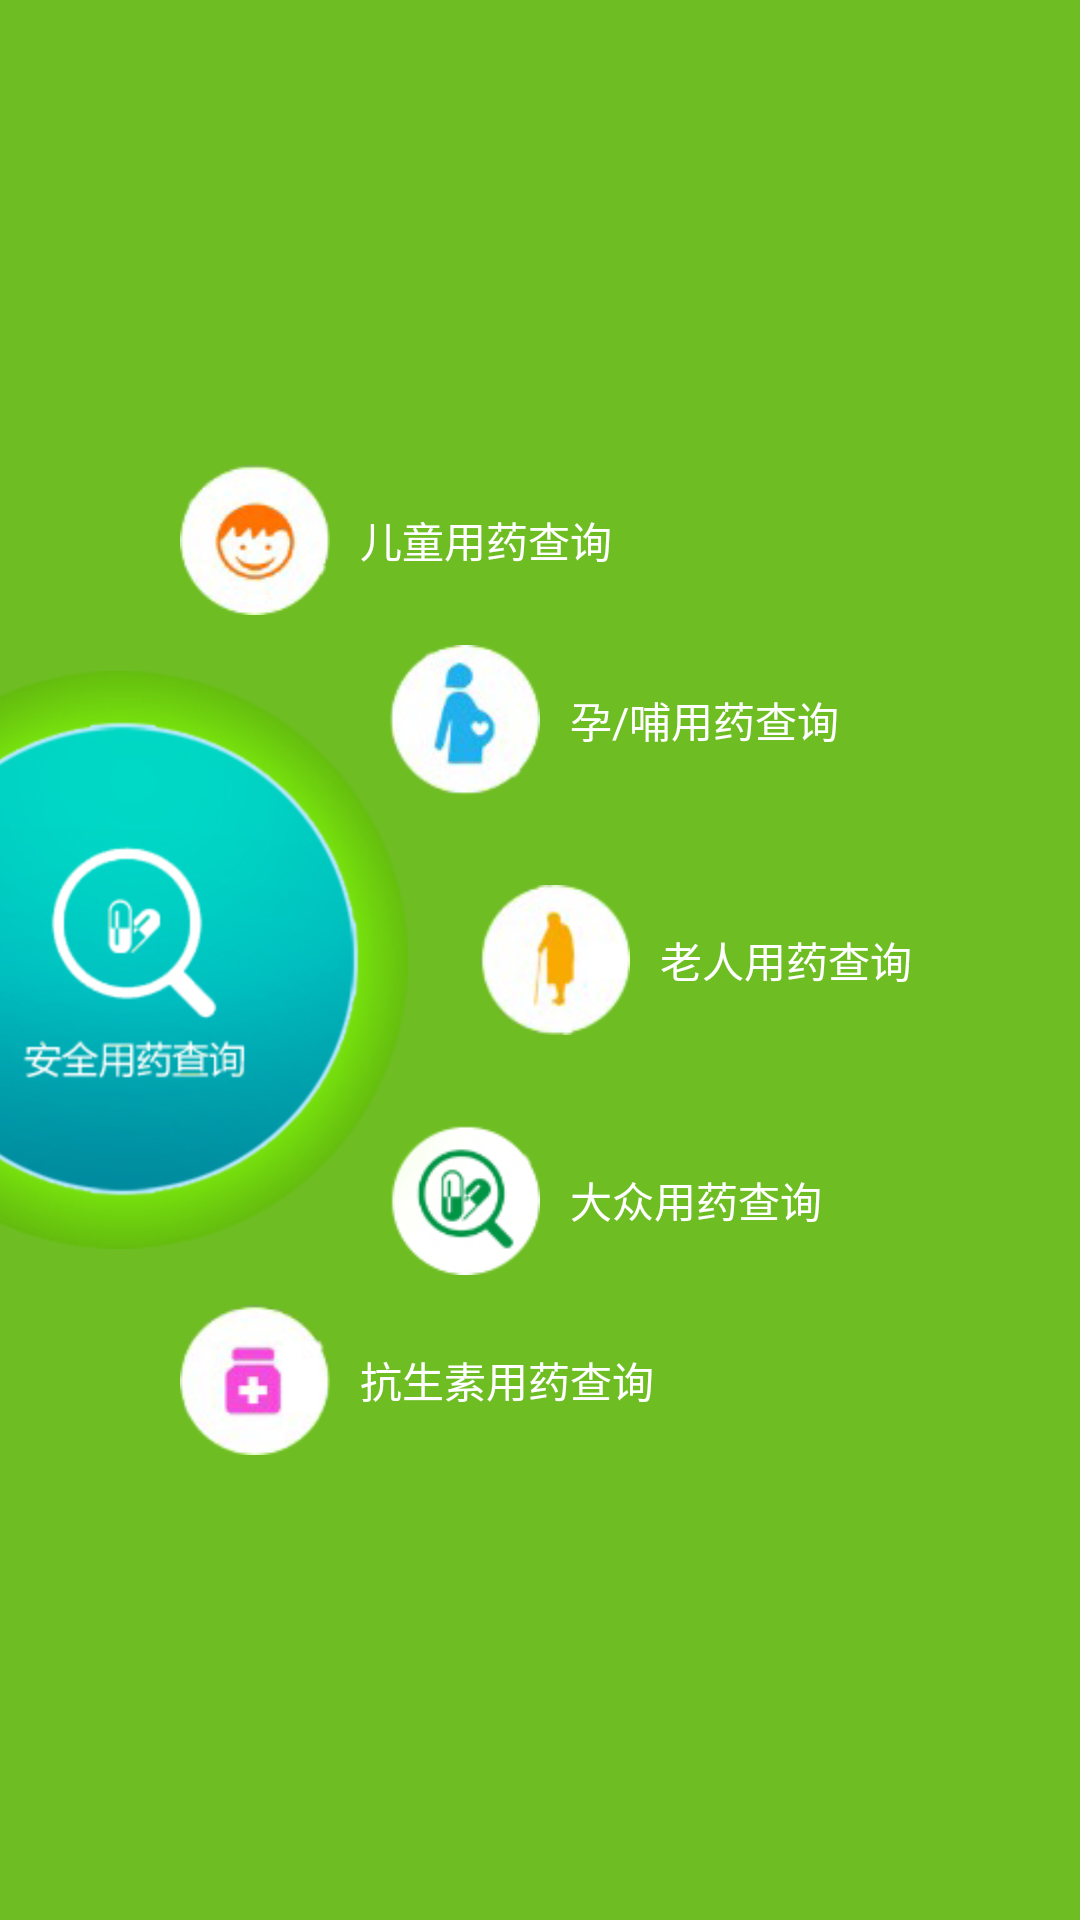

Icons on this 1080px×1920px Android screen, each with the point to tap as point (x, y):
medicine antibiotic: point (255, 1380)
medicine child: point (255, 540)
medicine common: point (465, 1200)
medicine old: point (555, 960)
medicine pregnant: point (465, 719)
